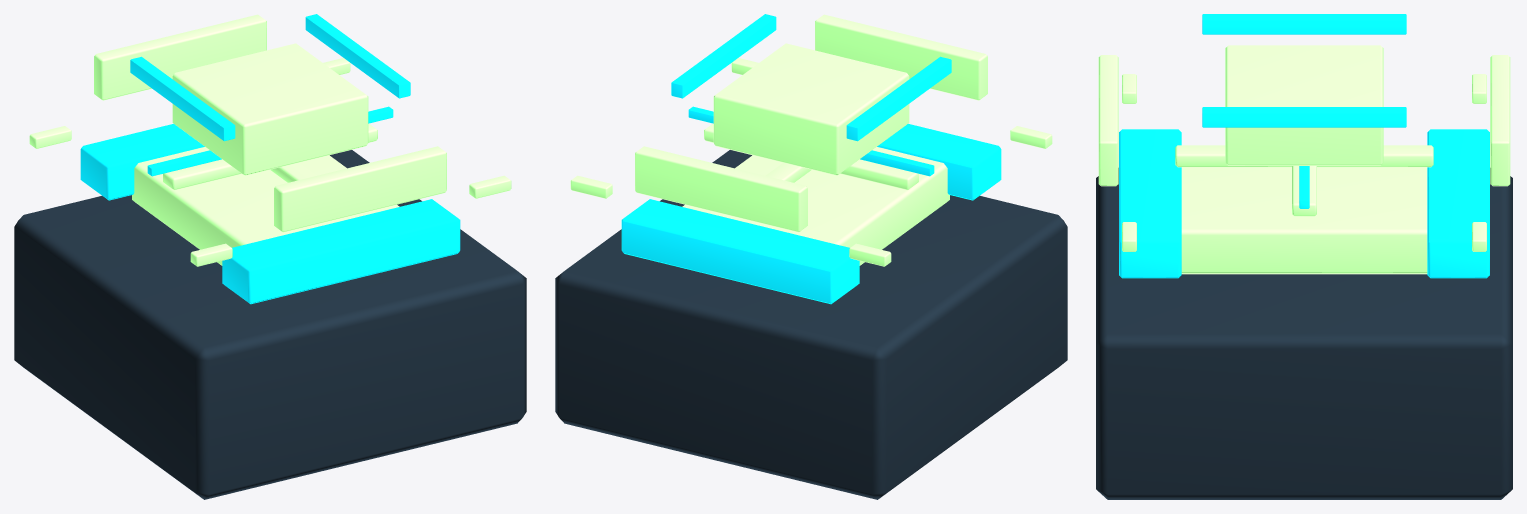
File: recharge_pad.glb
The picture shows the model from 3 angles, left to right: view 1: azimuth 30°, elevation 25°; view 2: azimuth 150°, elevation 25°; view 3: azimuth 270°, elevation 25°; orthographic projection. The views are drawn at different scales.
Parts seen in each view (by area): view 1: RechargePadBase, RechargePadRaisedCore, RechargePadRightCell, RechargePadCore, RechargePadSideBeaconR, RechargePadSideBeaconL, RechargePadLeftCell, RechargePadEnergyTickA, RechargePadEnergyTickB, RechargePadCrossA, RechargePadPulseLine, RechargePadCornerB (+2 smaller); view 2: RechargePadBase, RechargePadRaisedCore, RechargePadLeftCell, RechargePadCore, RechargePadSideBeaconL, RechargePadSideBeaconR, RechargePadRightCell, RechargePadEnergyTickA, RechargePadEnergyTickB, RechargePadCrossA, RechargePadPulseLine, RechargePadCornerA (+2 smaller); view 3: RechargePadBase, RechargePadCore, RechargePadRaisedCore, RechargePadLeftCell, RechargePadRightCell, RechargePadEnergyTickA, RechargePadEnergyTickB, RechargePadSideBeaconL, RechargePadSideBeaconR, RechargePadCrossB, RechargePadCrossA, RechargePadPulseLine.
Part boxes in pixels (x1,y1,x2,y2): RechargePadBase: [14, 150, 526, 499]; RechargePadRaisedCore: [172, 43, 368, 175]; RechargePadRightCell: [222, 199, 460, 304]; RechargePadCore: [132, 147, 399, 265]; RechargePadSideBeaconR: [274, 146, 446, 232]; RechargePadSideBeaconL: [94, 14, 266, 100]; RechargePadLeftCell: [80, 123, 204, 200]; RechargePadEnergyTickA: [130, 56, 235, 141]; RechargePadEnergyTickB: [305, 14, 410, 98]; RechargePadCrossA: [163, 123, 377, 190]; RechargePadPulseLine: [147, 106, 393, 176]; RechargePadCornerB: [190, 243, 232, 266]; RechargePadBase: [555, 150, 1067, 499]; RechargePadRaisedCore: [713, 43, 909, 175]; RechargePadLeftCell: [621, 199, 859, 304]; RechargePadCore: [682, 147, 949, 265]; RechargePadSideBeaconL: [635, 146, 807, 232]; RechargePadSideBeaconR: [815, 14, 987, 100]; RechargePadRightCell: [877, 123, 1001, 200]; RechargePadEnergyTickA: [846, 56, 951, 141]; RechargePadEnergyTickB: [671, 14, 776, 98]; RechargePadCrossA: [704, 123, 918, 190]; RechargePadPulseLine: [688, 106, 934, 176]; RechargePadCornerA: [849, 243, 891, 266]; RechargePadBase: [1096, 168, 1512, 499]; RechargePadCore: [1181, 167, 1427, 274]; RechargePadRaisedCore: [1225, 45, 1383, 165]; RechargePadLeftCell: [1427, 129, 1489, 278]; RechargePadRightCell: [1119, 129, 1181, 278]; RechargePadEnergyTickA: [1202, 14, 1406, 34]; RechargePadEnergyTickB: [1202, 107, 1406, 127]; RechargePadSideBeaconL: [1490, 55, 1510, 186]; RechargePadSideBeaconR: [1098, 55, 1118, 186]; RechargePadCrossB: [1175, 145, 1433, 167]; RechargePadCrossA: [1292, 166, 1316, 216]; RechargePadPulseLine: [1299, 166, 1309, 208].
Bounding box in the file's own units: 0.5 × 0.468 × 0.5.
